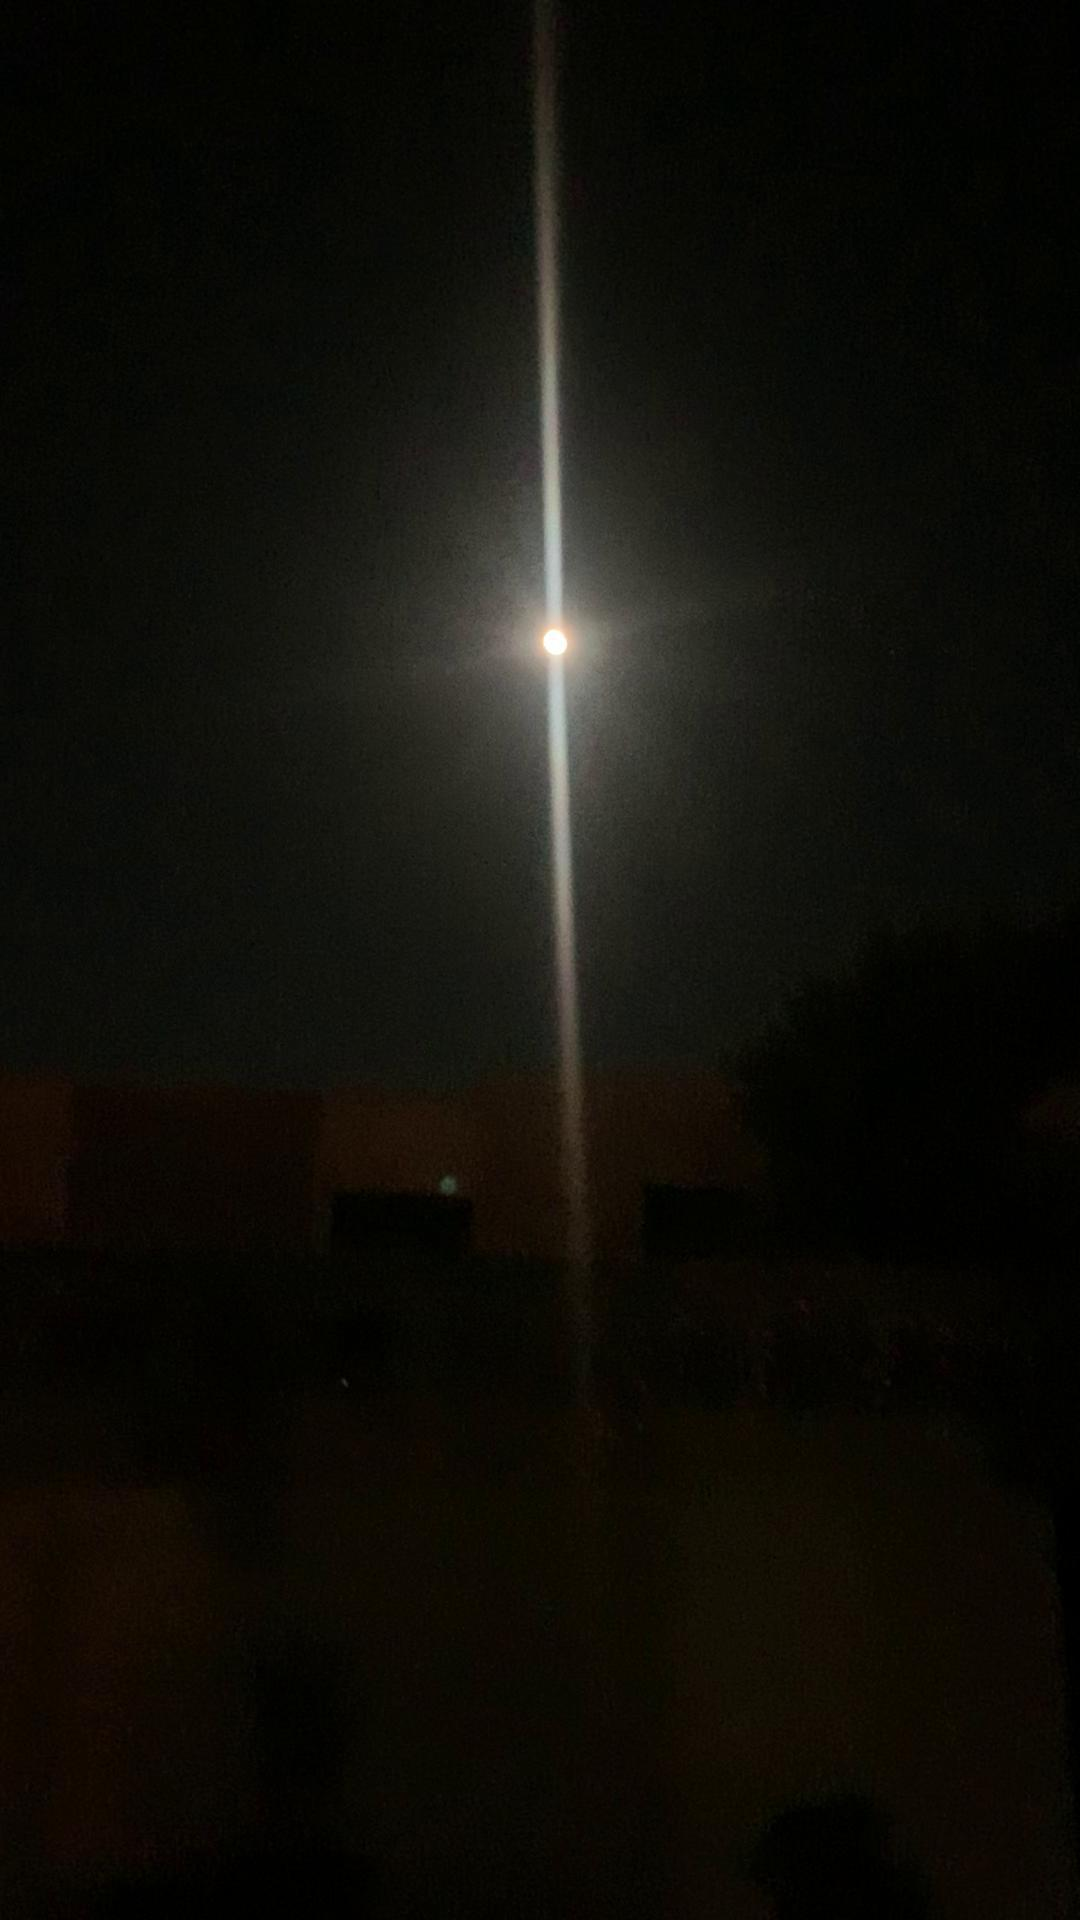moon: (526, 603, 601, 680)
